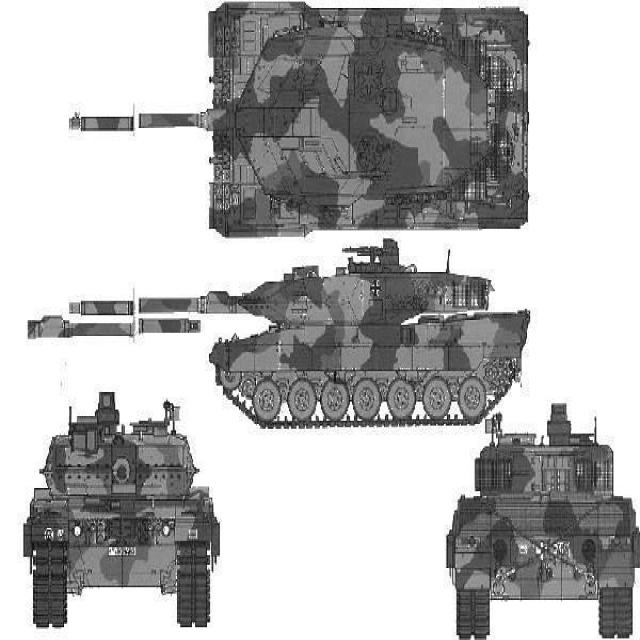Tanks: (14, 12, 566, 262), (10, 205, 572, 440), (11, 379, 226, 627), (408, 374, 577, 628)
